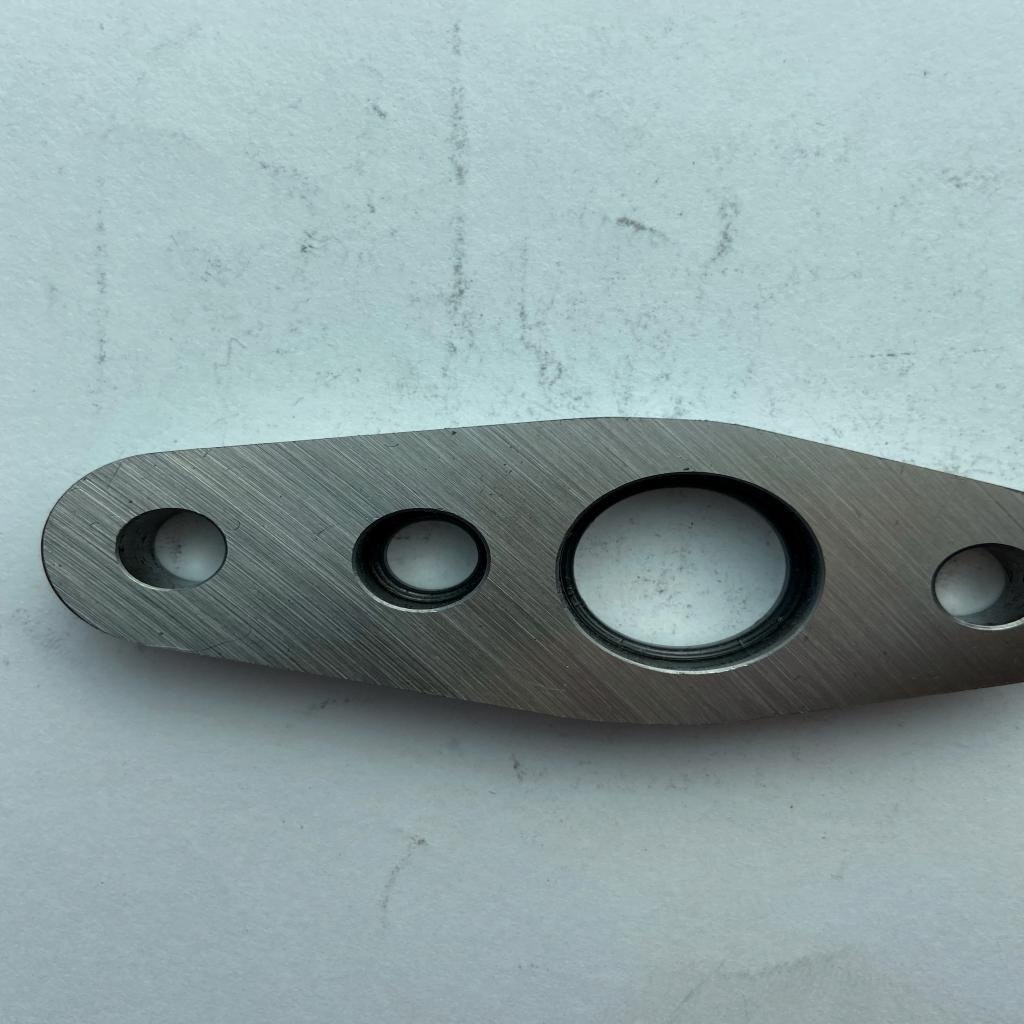chap: (561, 664, 572, 670)
lines: (179, 618, 264, 652), (104, 463, 126, 488)
